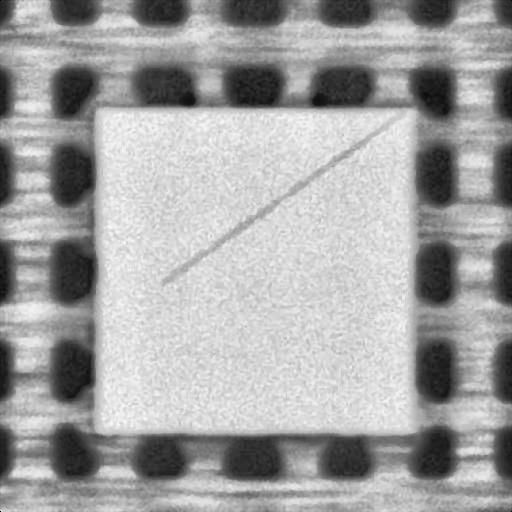DIE_CRACK: (165, 108, 414, 275)
